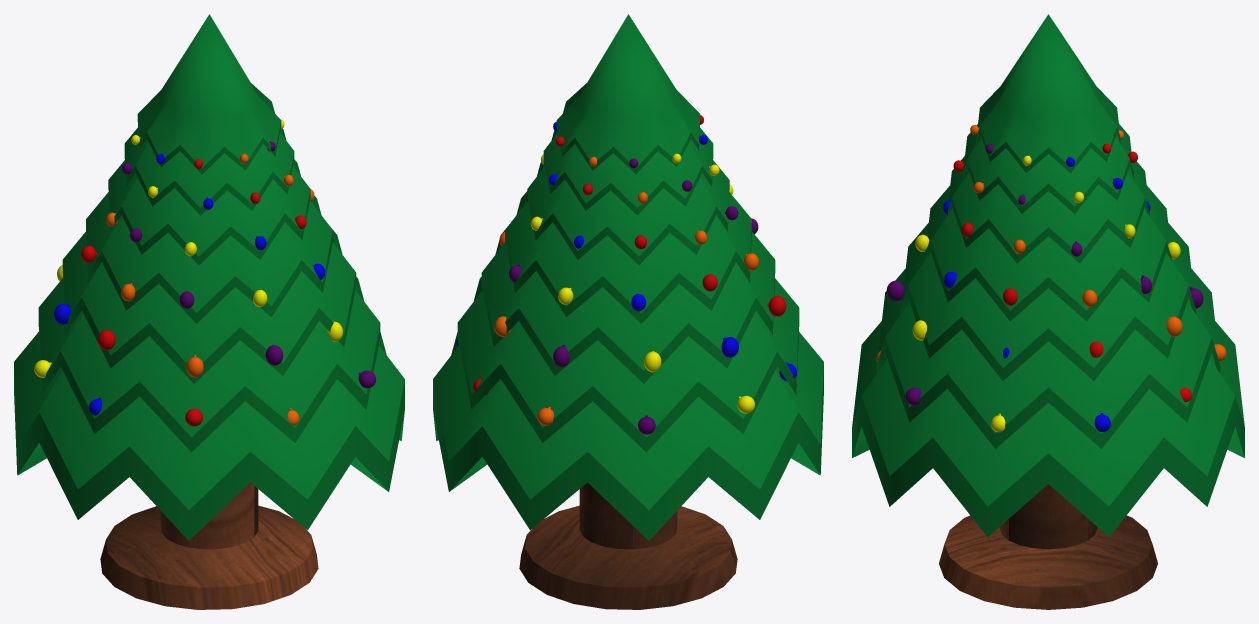
The model's file is Arbolito4.fbx.
3 views of the same model, side by side, from view 1: azimuth 30°, elevation 25°; view 2: azimuth 150°, elevation 25°; view 3: azimuth 270°, elevation 25° (orthographic).
Visible parts, largest first — view 1: pSphere42; view 2: pSphere42; view 3: pSphere42.
Part boxes in pixels (<box>): pSphere42: <box>14,14,404,609</box>; pSphere42: <box>433,14,823,609</box>; pSphere42: <box>852,14,1244,609</box>.
Bounding box in the file's own units: 7.73 × 11.93 × 7.73.
7 materials, 1 textured.
